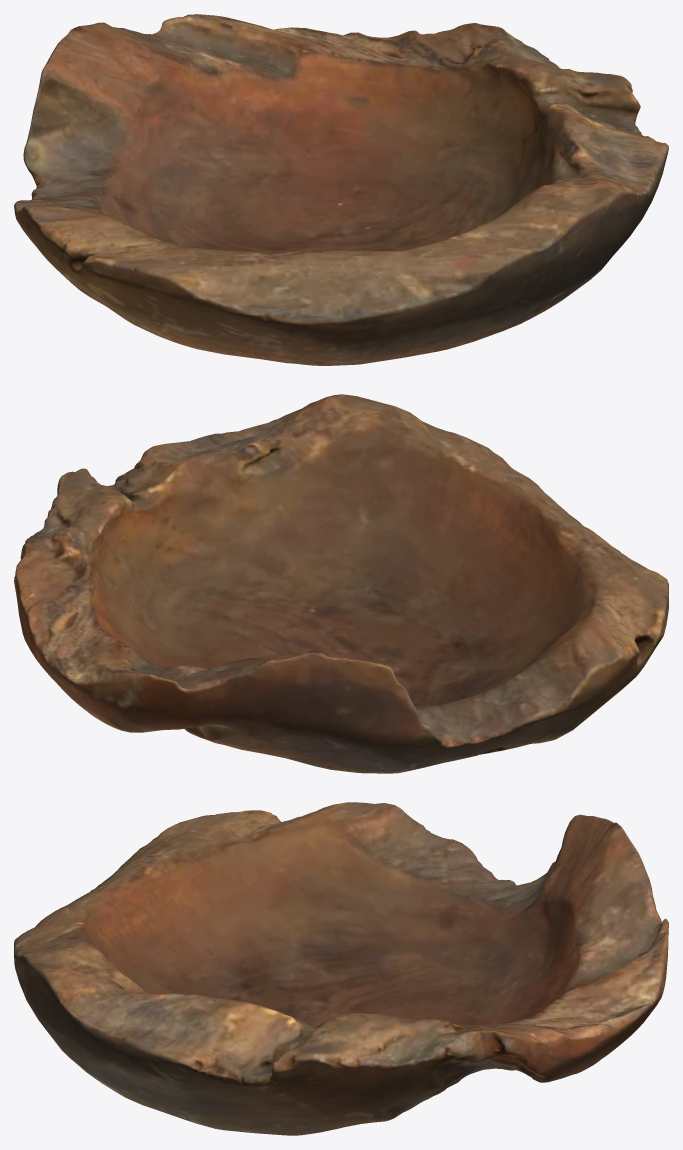
File: wooden_bowl_01.gltf
3 views of the same model, one above another, from view 1: azimuth 30°, elevation 25°; view 2: azimuth 150°, elevation 25°; view 3: azimuth 270°, elevation 25° (orthographic). The views are drawn at different scales.
Parts seen in each view (by area): view 1: wooden_bowl_01; view 2: wooden_bowl_01; view 3: wooden_bowl_01.
Boxes of the visible parts, x1,y1,x2,y2 form: wooden_bowl_01: (14,14,668,365); wooden_bowl_01: (14,394,668,773); wooden_bowl_01: (14,802,668,1135).
Bounding box in the file's own units: 0.3131 × 0.0937 × 0.3091.
Materials: 1 (1 with a texture image).
